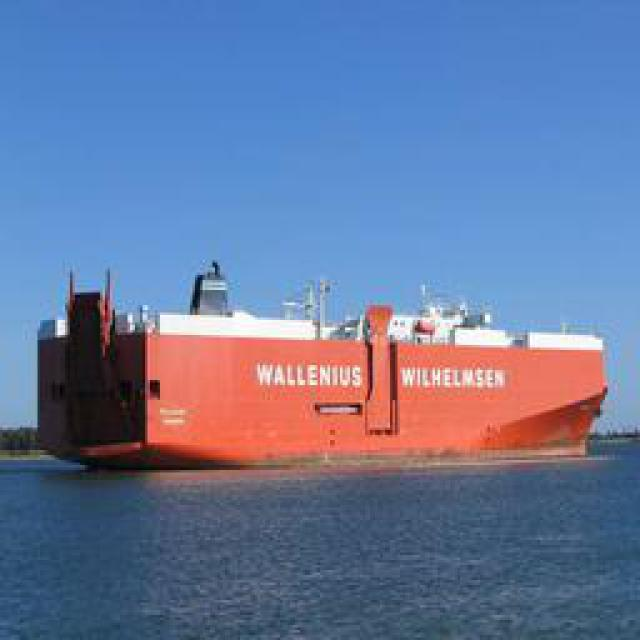Ship: (46, 266, 609, 464)
